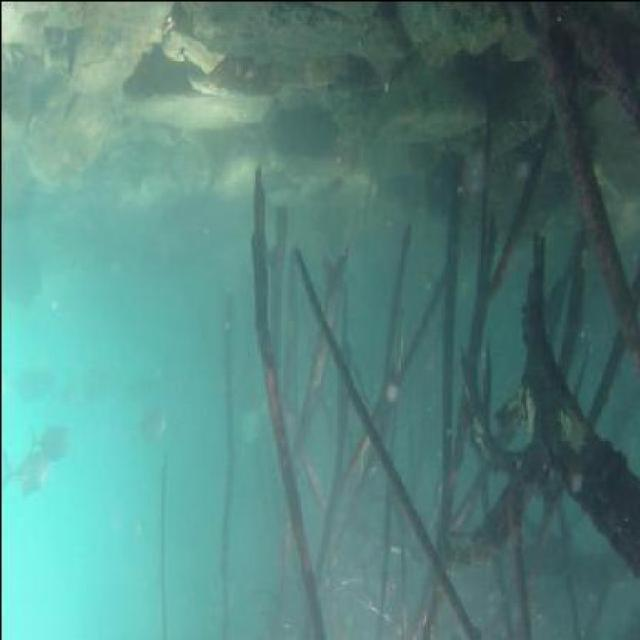Caranx_sexfasciatus_juvenile: (42, 358, 106, 409), (22, 415, 69, 471), (128, 401, 169, 462), (0, 354, 38, 411), (0, 457, 49, 501)
